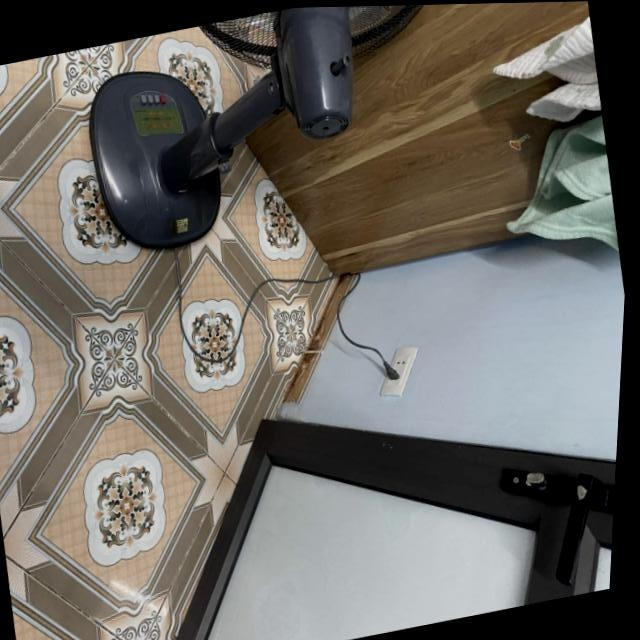outlet: (373, 342, 427, 400)
